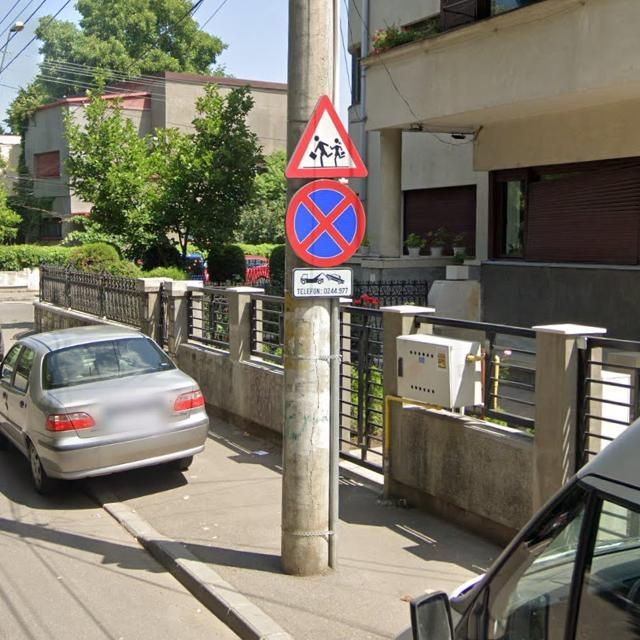forb_waiting: (285, 179, 368, 268)
